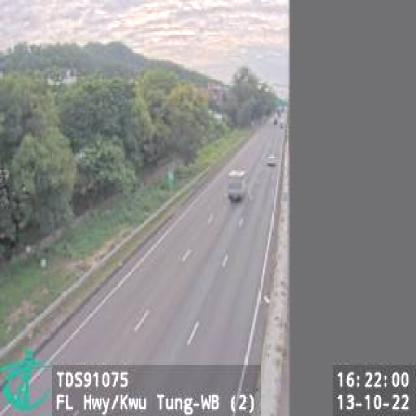Car: (266, 155, 278, 168)
Truck: (227, 168, 248, 202)
